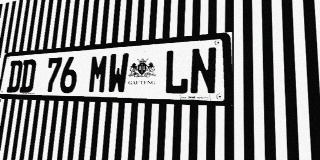6: (59, 56, 79, 93)
7: (43, 57, 62, 93)
D: (19, 59, 37, 93), (6, 60, 23, 92)
L: (163, 48, 190, 95)
M: (87, 54, 109, 94)
N: (189, 46, 217, 95)
W: (106, 53, 129, 94)
